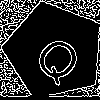Q: (29, 26, 91, 89)
